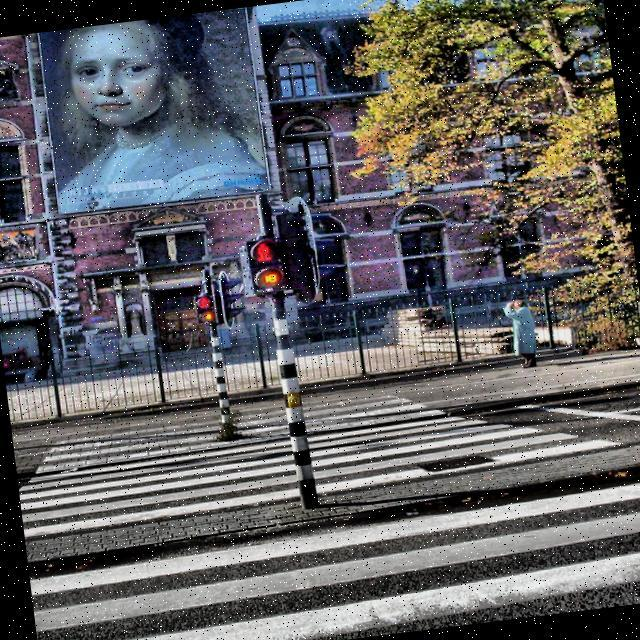red_light: (253, 241, 273, 263), (197, 296, 210, 309)
